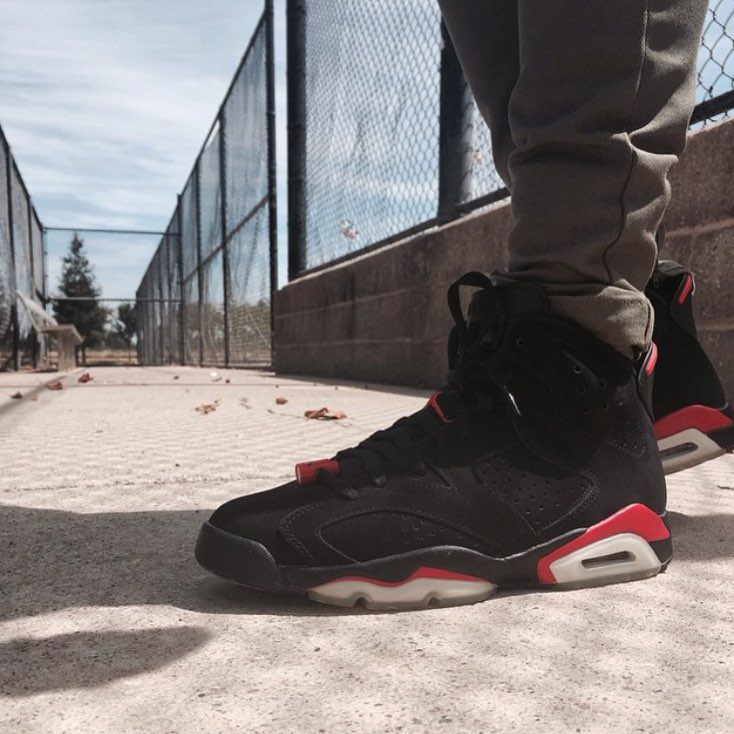sneaker: (173, 233, 709, 642), (623, 236, 732, 485)
